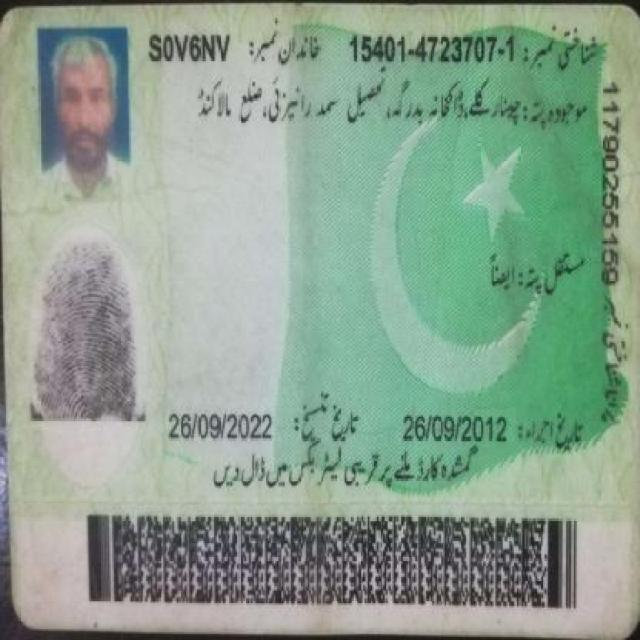Back: (6, 6, 629, 620)
